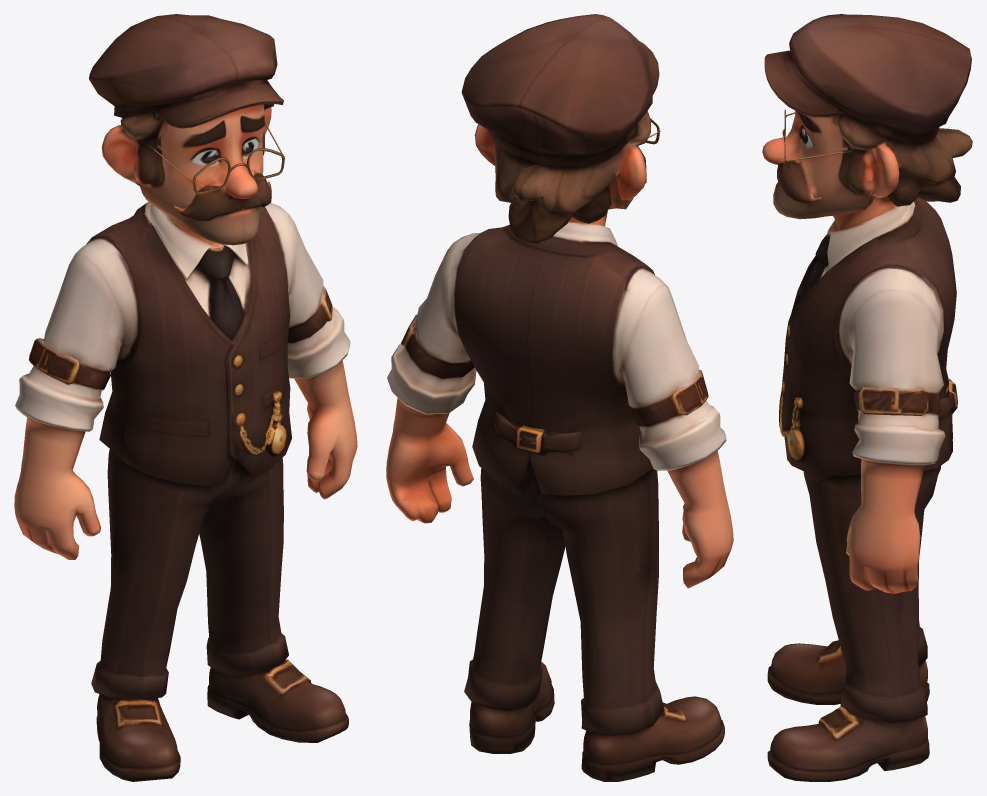
File: bank_officer.glb
3 renders of one model, left to right at view 1: azimuth 30°, elevation 25°; view 2: azimuth 150°, elevation 25°; view 3: azimuth 270°, elevation 25°, orthographic.
Visible parts, largest first — view 1: bank_officer; view 2: bank_officer; view 3: bank_officer.
Part boxes in pixels (box(x1,y1,x2,y2)): bank_officer: box(14, 14, 357, 781); bank_officer: box(386, 14, 733, 781); bank_officer: box(762, 14, 972, 781).
Bounding box in the file's own units: 1 × 2.02 × 0.549.
1 material, 1 textured.
